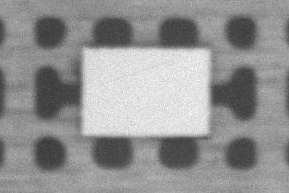DIE_CRACK: (151, 40, 259, 56)
